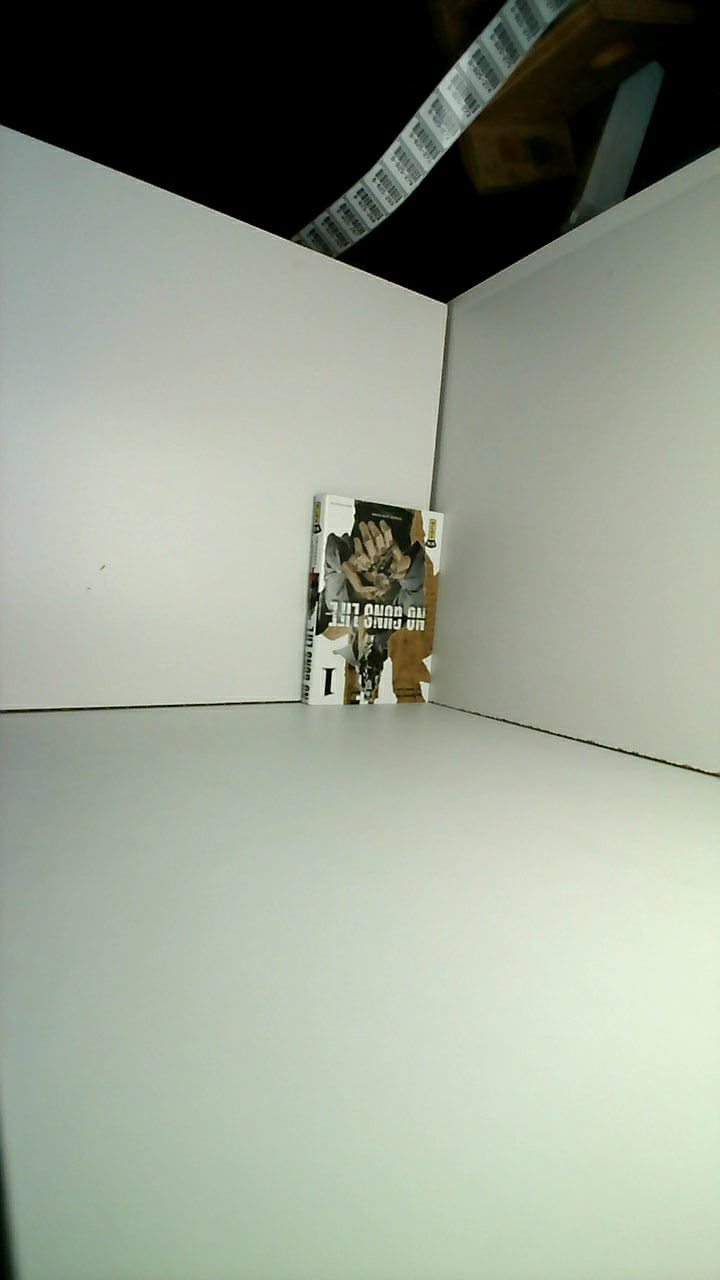book: (276, 477, 476, 735)
